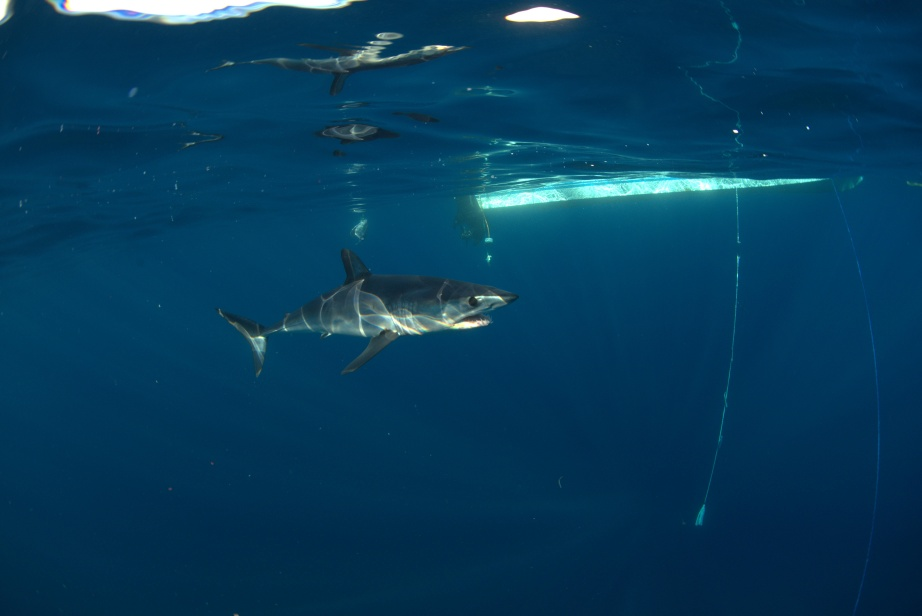Mako: (187, 242, 520, 389)
